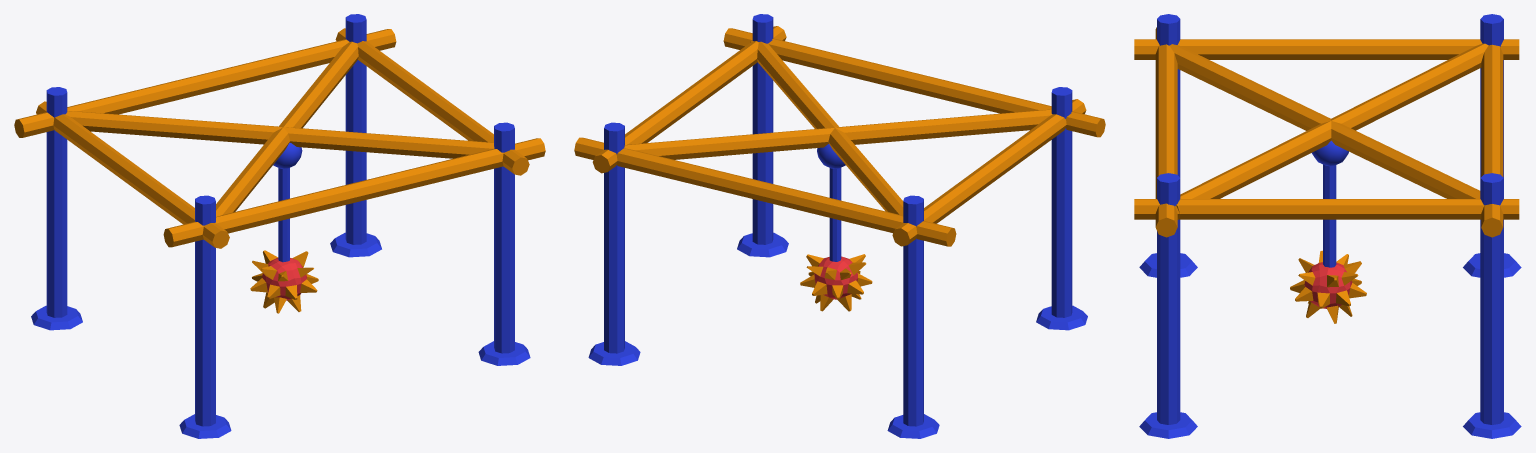
File: engel6.fbx
The picture shows the model from 3 angles, left to right: view 1: azimuth 30°, elevation 25°; view 2: azimuth 150°, elevation 25°; view 3: azimuth 270°, elevation 25°; orthographic projection. The views are drawn at different scales.
Visible parts, largest first — view 1: Cylinder.005, Sphere; view 2: Cylinder.005, Sphere; view 3: Cylinder.005, Sphere.
Part boxes in pixels (x1,y1,x2,y2): Cylinder.005: (14, 14, 545, 438); Sphere: (250, 143, 318, 313); Cylinder.005: (574, 14, 1105, 438); Sphere: (800, 144, 872, 311); Cylinder.005: (1134, 14, 1521, 438); Sphere: (1290, 140, 1366, 323).
Bounding box in the file's own units: 1144 × 670 × 946.
